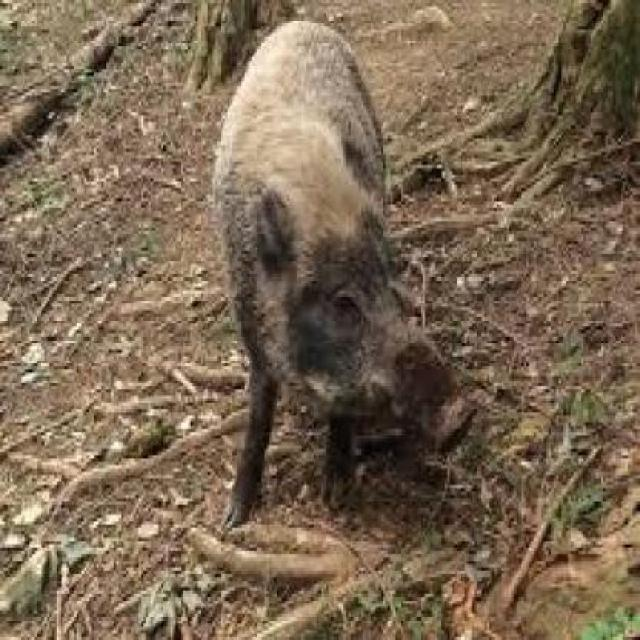wildboar: (210, 11, 478, 537)
